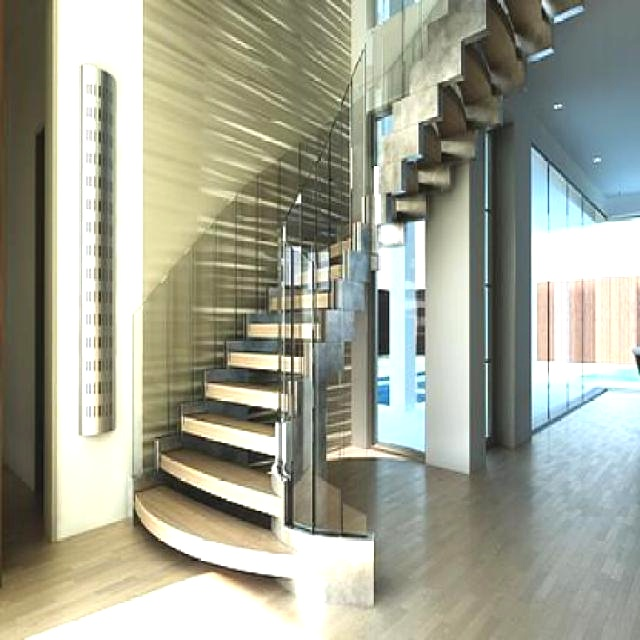stair: (126, 20, 380, 615)
